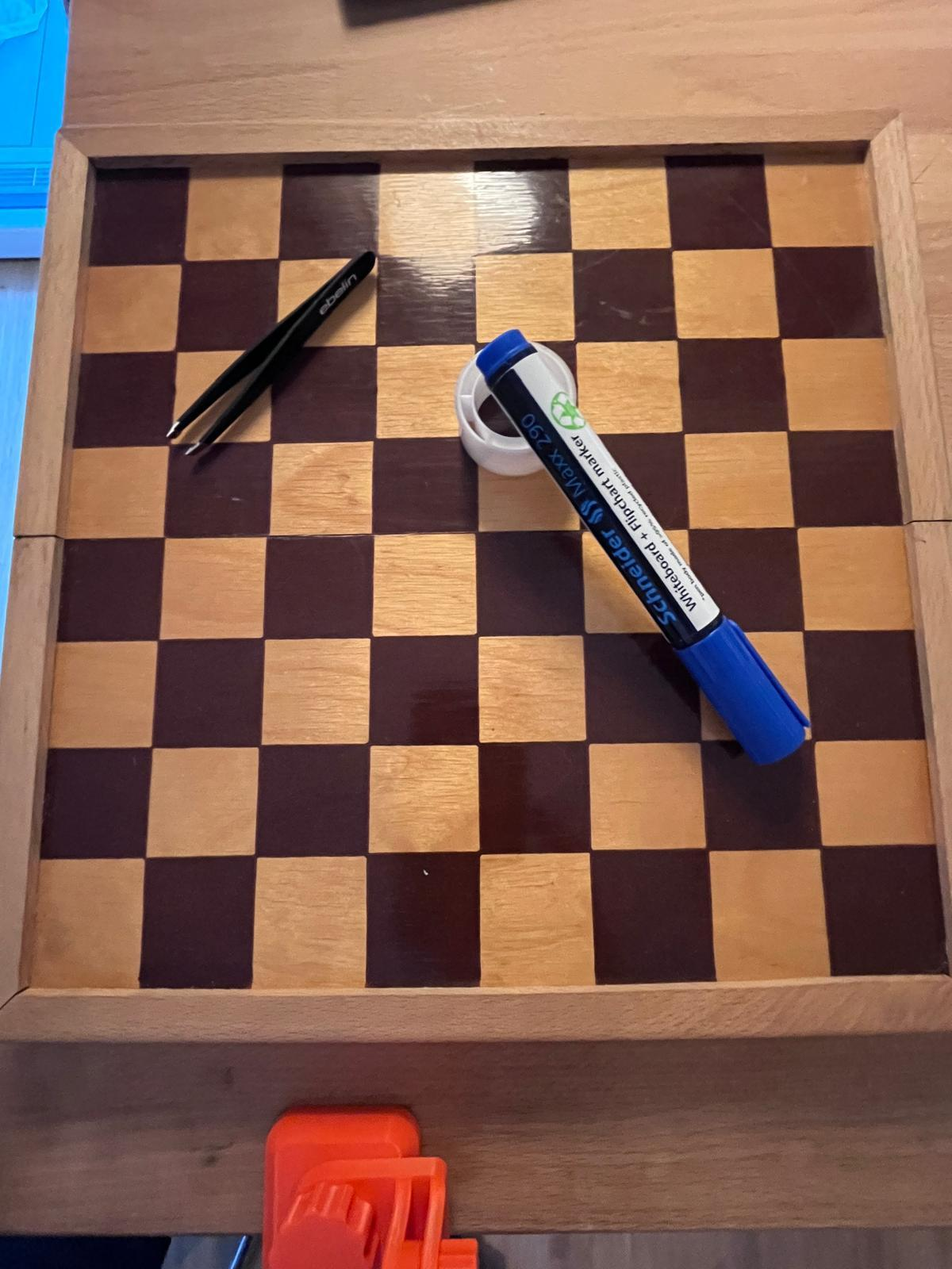marker: (481, 339, 809, 773)
tape: (452, 333, 590, 473)
tweezer: (171, 257, 376, 455)
